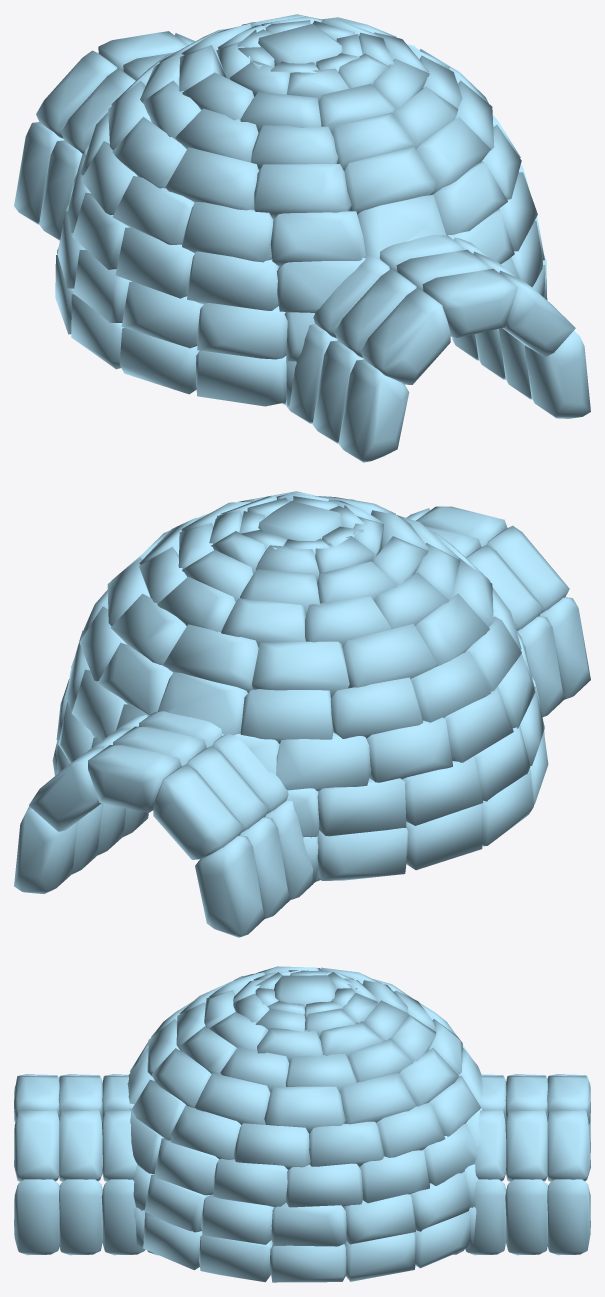
File: Iglo.fbx
The picture shows the model from 3 angles, top to bottom: view 1: azimuth 30°, elevation 25°; view 2: azimuth 150°, elevation 25°; view 3: azimuth 270°, elevation 25°; orthographic projection. The views are drawn at different scales.
Visible parts, largest first — view 1: Cube.003; view 2: Cube.003; view 3: Cube.003.
Part boxes in pixels (bbox=[...]): Cube.003: bbox=[14, 14, 590, 462]; Cube.003: bbox=[14, 491, 590, 937]; Cube.003: bbox=[14, 966, 590, 1282].
Size of the model in its own units: 15.11 by 9.54 by 21.95.
